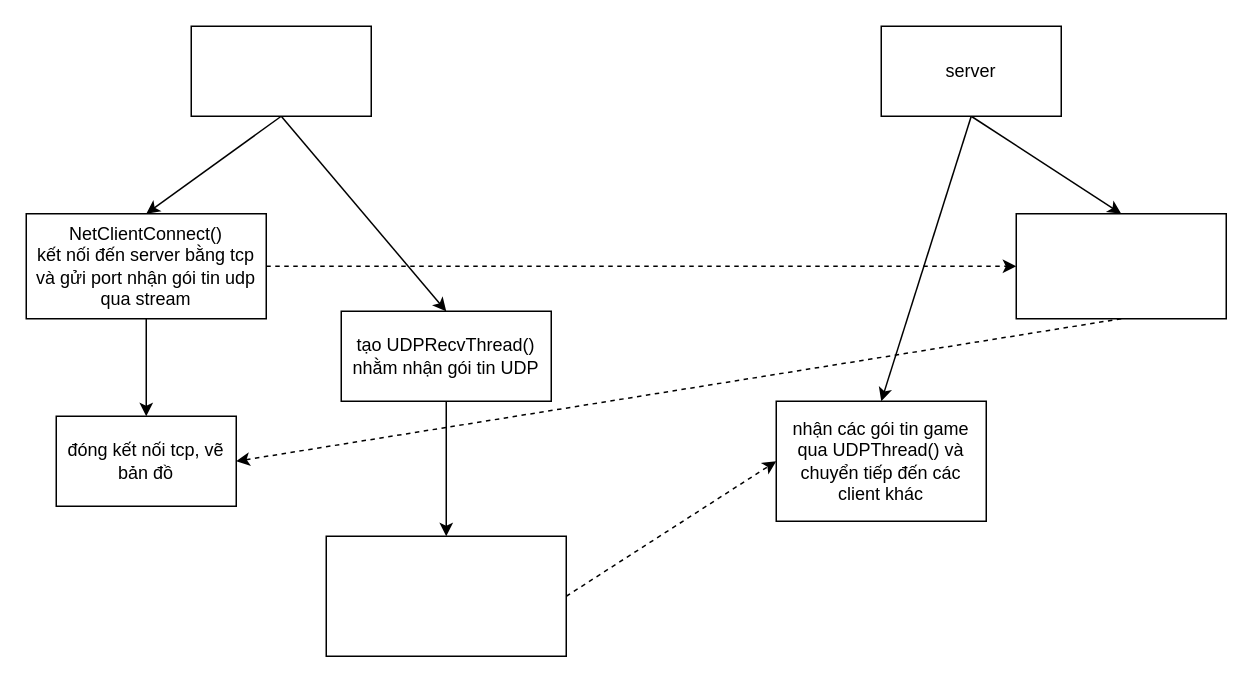
Image size: 1253x683. Some labels were removed from this diagram. Each missing label, with the centre of its shape:
"client" belongs at point 280,70.
"nghe các kết nối tcp và gửi map qua stream" belongs at point 1120,265.
"tạo 2 đối tượng tank, corona và gửi gói tin TankNewMsg và CoronaNewMsg về server" belongs at point 445,595.
